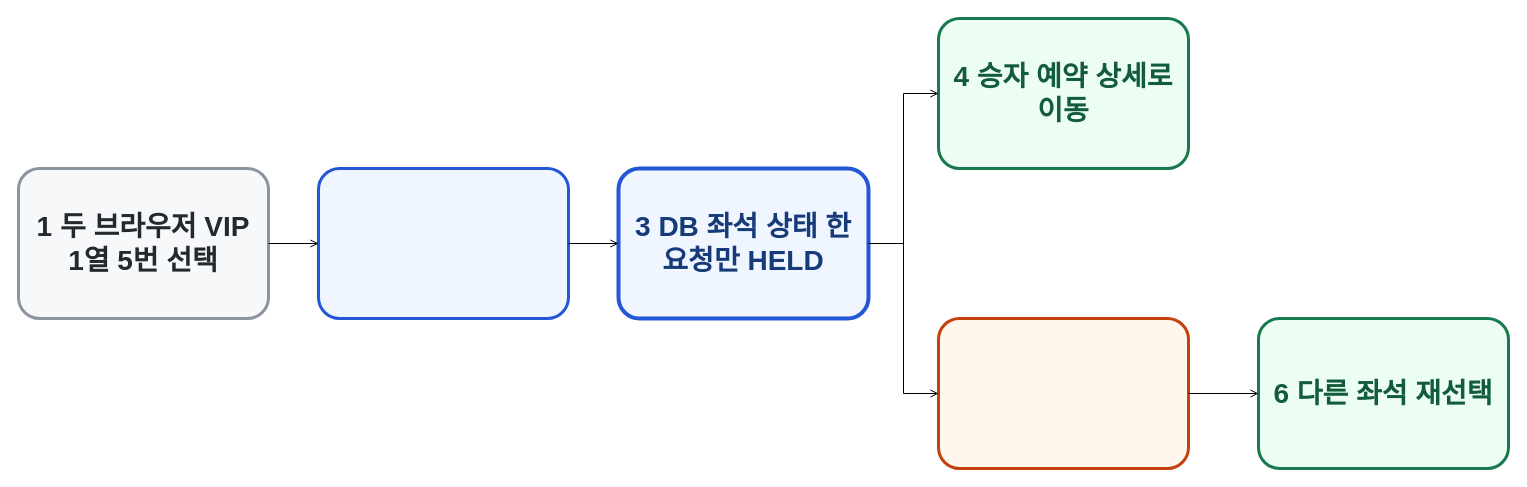
Some shapes in this 1527 by 487 pixel diagram are drawn without their labels. Each missing label, with the centre of its shape:
"2 Token과 key로 예약 요청" goes at pixel 443 243.
"5 패자 토큰 유지 · 좌석표 갱신" goes at pixel 1063 393.
